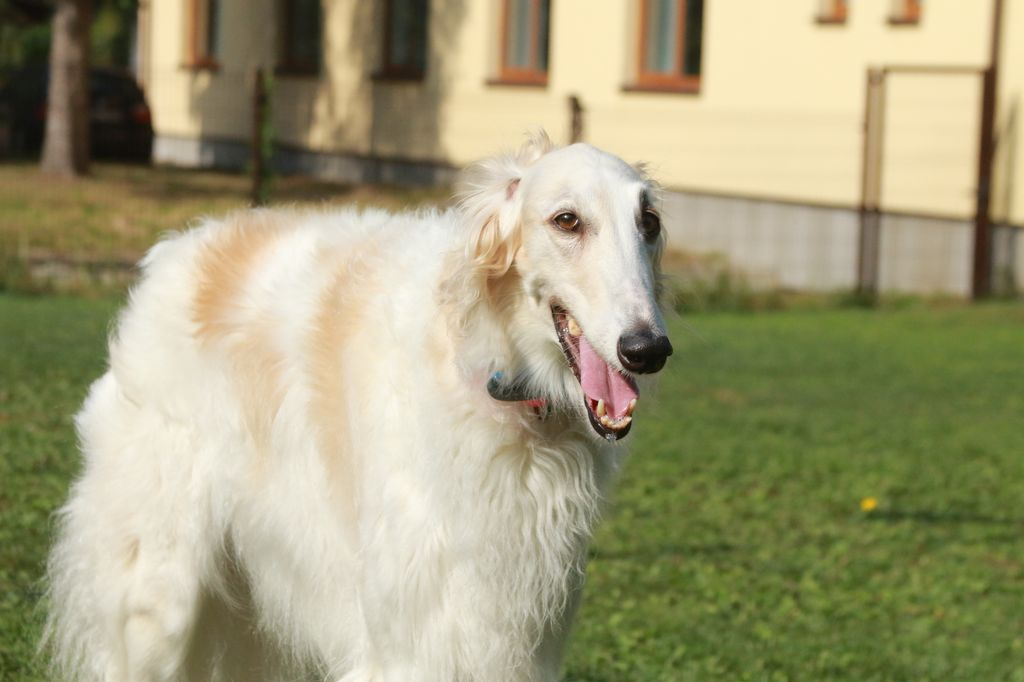borzoi: (31, 137, 724, 682)
